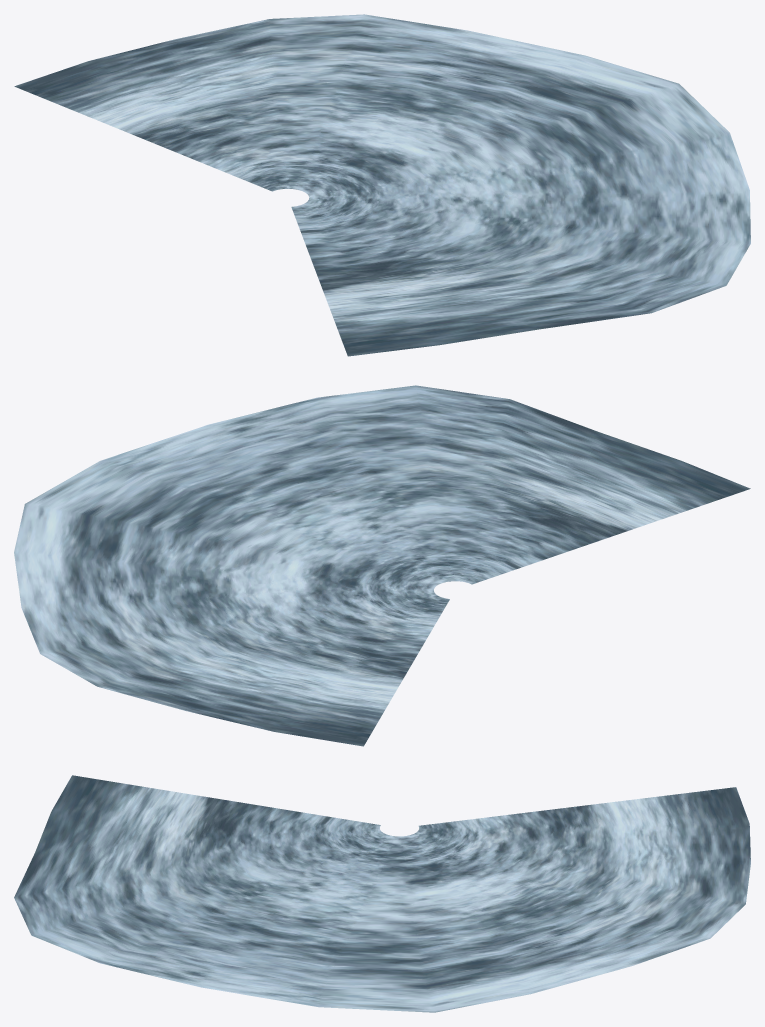
File: waterfalls_set1_high_ripples.obj
3 renders of one model, top to bottom at view 1: azimuth 30°, elevation 25°; view 2: azimuth 150°, elevation 25°; view 3: azimuth 270°, elevation 25°, orthographic. The views are drawn at different scales.
Visible parts, largest first — view 1: waterfalls_set1_high_ripples; view 2: waterfalls_set1_high_ripples; view 3: waterfalls_set1_high_ripples.
Boxes of the visible parts, x1,y1,x2,y2 form: waterfalls_set1_high_ripples: (14, 14, 750, 356); waterfalls_set1_high_ripples: (14, 385, 750, 746); waterfalls_set1_high_ripples: (14, 775, 750, 1012).
Bounding box in the file's own units: 98.1 × 2.76e-05 × 129.
Materials: 1 (1 with a texture image).
